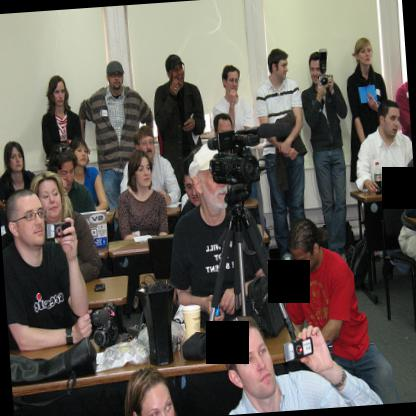backpack: (346, 240, 370, 291)
handbag: (244, 273, 286, 339)
